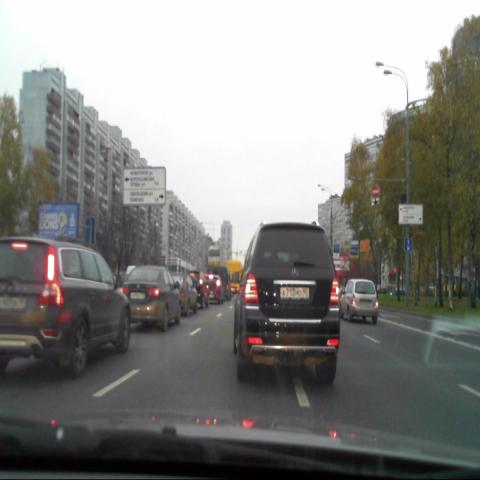3_1: (372, 185, 380, 198)
5_14: (404, 238, 412, 251)
